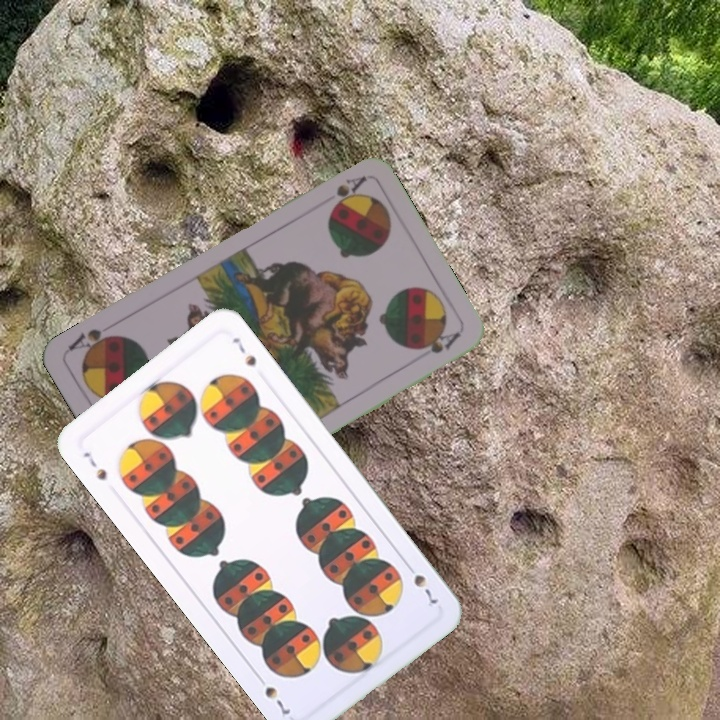S7: (401, 558, 440, 607), (79, 447, 110, 483)
SA: (326, 172, 369, 214)
